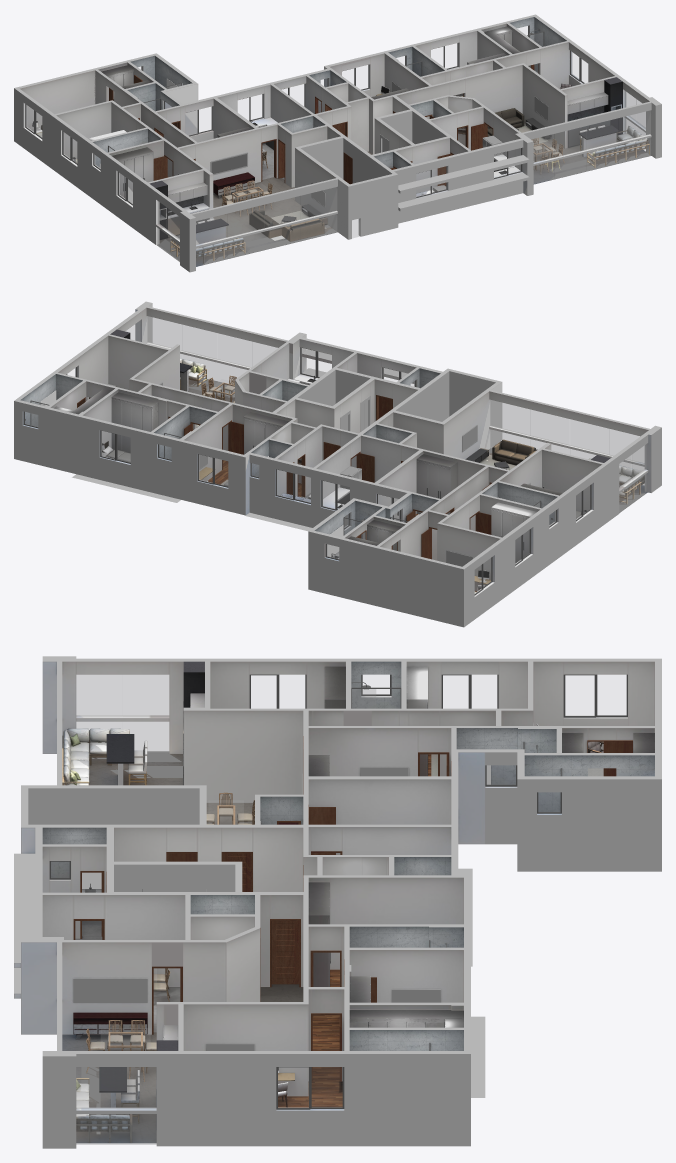
Rendered from SevenBedRoom.glb.
3 views of the same model, one above another, from view 1: azimuth 30°, elevation 25°; view 2: azimuth 150°, elevation 25°; view 3: azimuth 270°, elevation 25° (orthographic). The views are drawn at different scales.
Parts seen in each view (by area): view 1: Layer:P06, Object163_parede_0, Object162_parede_0, ee93, Object173_Material #2146796782_0, Object125_Material #2146796781_0, Plane013, Box172, Object160_Material #2146779762_0, Object164_parede_0, Object149_Material #2146779762_0, Object159_Material #2146779762_0 (+4 smaller); view 2: Layer:P06, Object163_parede_0, Object162_parede_0, Object125_Material #2146796781_0, ee93, Object173_Material #2146796782_0, Box172, Object164_parede_0, Object160_Material #2146779762_0, Object149_Material #2146779762_0, Object159_Material #2146779762_0, Plane013 (+4 smaller); view 3: Layer:P06, Object163_parede_0, Object162_parede_0, Object125_Material #2146796781_0, Object173_Material #2146796782_0, ee93, Object164_parede_0, Plane013, Box172, Object160_Material #2146779762_0, Object172_Material #2146796550 [ee93]_0, Plane004 (+7 smaller).
Part boxes in pixels (x1,y1,x2,y2): Layer:P06: (20, 23, 655, 246); Object163_parede_0: (14, 88, 661, 272); Object162_parede_0: (14, 14, 661, 219); ee93: (32, 65, 327, 263); Object173_Material #2146796782_0: (371, 26, 649, 196); Object125_Material #2146796781_0: (93, 17, 566, 168); Plane013: (157, 119, 651, 266); Box172: (171, 91, 650, 239); Object160_Material #2146779762_0: (158, 99, 645, 245); Object164_parede_0: (301, 111, 446, 183); Object149_Material #2146779762_0: (171, 118, 650, 260); Object159_Material #2146779762_0: (157, 127, 645, 265); Layer:P06: (22, 303, 651, 596); Object163_parede_0: (14, 349, 661, 627); Object162_parede_0: (14, 301, 661, 569); Object125_Material #2146796781_0: (20, 368, 557, 538); ee93: (280, 439, 644, 592); Object173_Material #2146796782_0: (54, 329, 317, 486); Box172: (126, 316, 646, 479); Object164_parede_0: (298, 370, 495, 421); Object160_Material #2146779762_0: (128, 321, 644, 488); Object149_Material #2146779762_0: (180, 354, 646, 502); Object159_Material #2146779762_0: (183, 354, 644, 511); Plane013: (188, 377, 647, 512); Layer:P06: (14, 661, 654, 1110); Object163_parede_0: (14, 752, 661, 1148); Object162_parede_0: (21, 656, 661, 1056); Object125_Material #2146796781_0: (42, 661, 654, 1050); Object173_Material #2146796782_0: (73, 882, 463, 1142); ee93: (62, 661, 654, 824); Object164_parede_0: (28, 788, 235, 891); Plane013: (62, 751, 303, 1143); Box172: (76, 675, 156, 1108); Object160_Material #2146779762_0: (76, 675, 168, 1108); Object172_Material #2146796550 [ee93]_0: (73, 722, 533, 1050); Plane004: (278, 754, 431, 1107).
Size of the model in its own units: 26500 by 2852 by 18150.
29 materials, 11 textured.
